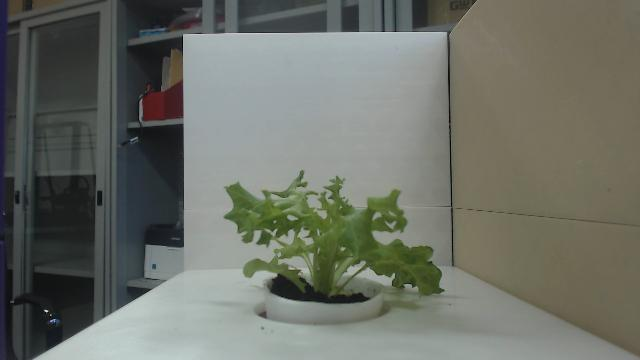Vegetative Stage: (223, 168, 447, 300)
